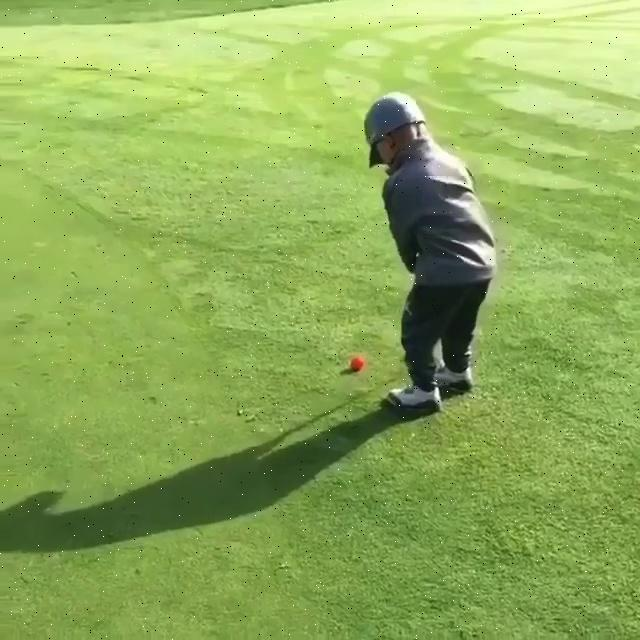golf ball: (350, 356, 363, 371)
